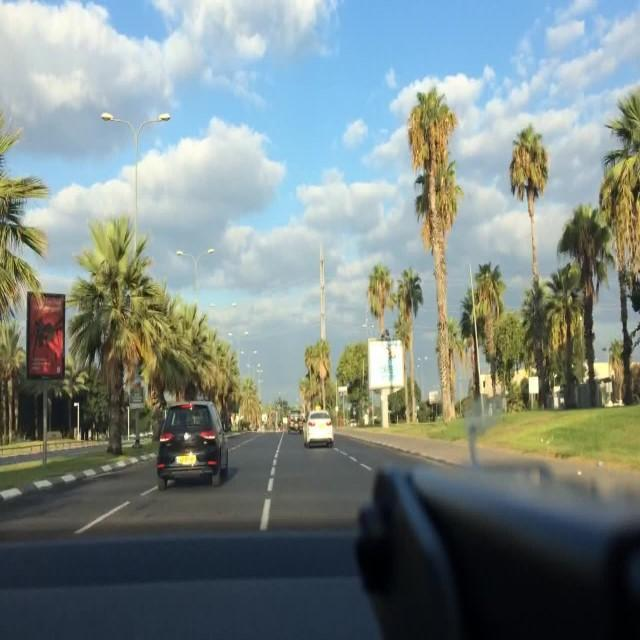normal: (158, 399, 235, 485), (302, 409, 335, 447)
